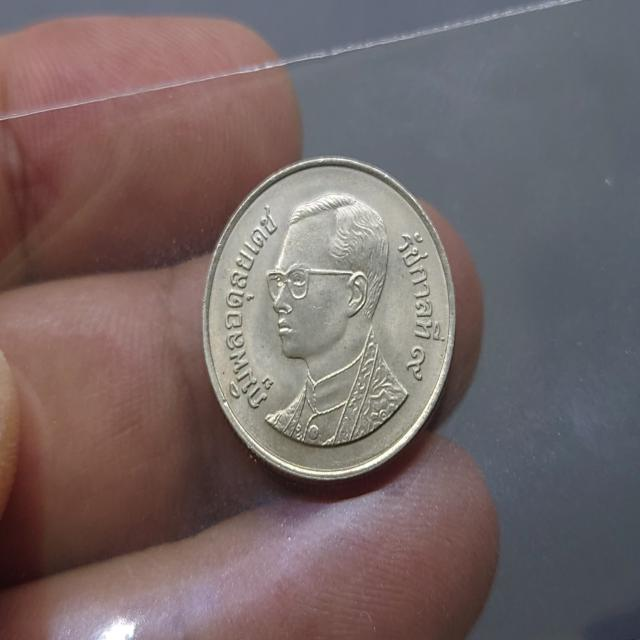1 Bath: (197, 148, 464, 494)
